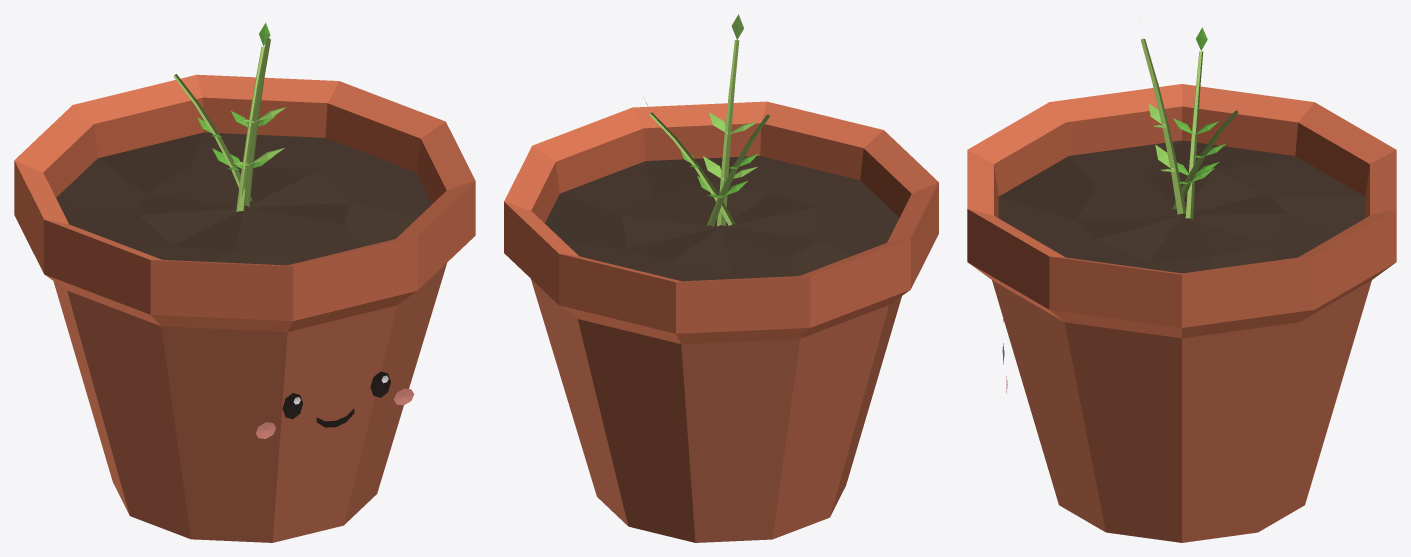
The model's file is carrot_2.glb.
3 views of the same model, side by side, from view 1: azimuth 30°, elevation 25°; view 2: azimuth 150°, elevation 25°; view 3: azimuth 270°, elevation 25° (orthographic). The views are drawn at different scales.
Visible parts, largest first — view 1: Carrot_Stage2_Young; view 2: Carrot_Stage2_Young; view 3: Carrot_Stage2_Young.
Part boxes in pixels (x1,y1,x2,y2): Carrot_Stage2_Young: [14, 22, 475, 542]; Carrot_Stage2_Young: [504, 14, 938, 542]; Carrot_Stage2_Young: [967, 27, 1396, 542].
Size of the model in its own units: 1.92 by 2.23 by 1.83.
